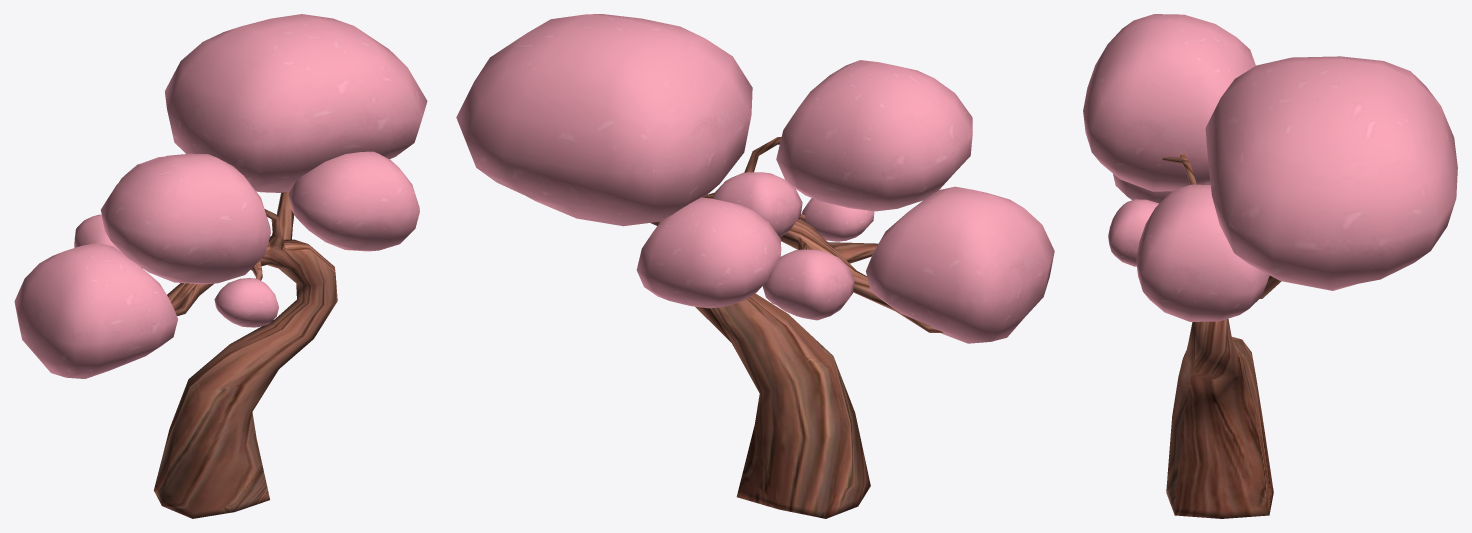
File: tree_006.glb
3 views of the same model, side by side, from view 1: azimuth 30°, elevation 25°; view 2: azimuth 150°, elevation 25°; view 3: azimuth 270°, elevation 25° (orthographic). The views are drawn at different scales.
Parts seen in each view (by area): view 1: tree006_leaves, tree006_trunk; view 2: tree006_leaves, tree006_trunk; view 3: tree006_leaves, tree006_trunk.
Part boxes in pixels (bbox=[...]): tree006_leaves: bbox=[14, 14, 427, 378]; tree006_trunk: bbox=[154, 191, 337, 518]; tree006_leaves: bbox=[456, 14, 1054, 343]; tree006_trunk: bbox=[651, 137, 943, 518]; tree006_leaves: bbox=[1083, 14, 1457, 321]; tree006_trunk: bbox=[1162, 154, 1281, 518].
Bounding box in the file's own units: 6.43 × 5.79 × 4.
1 material, 1 textured.
